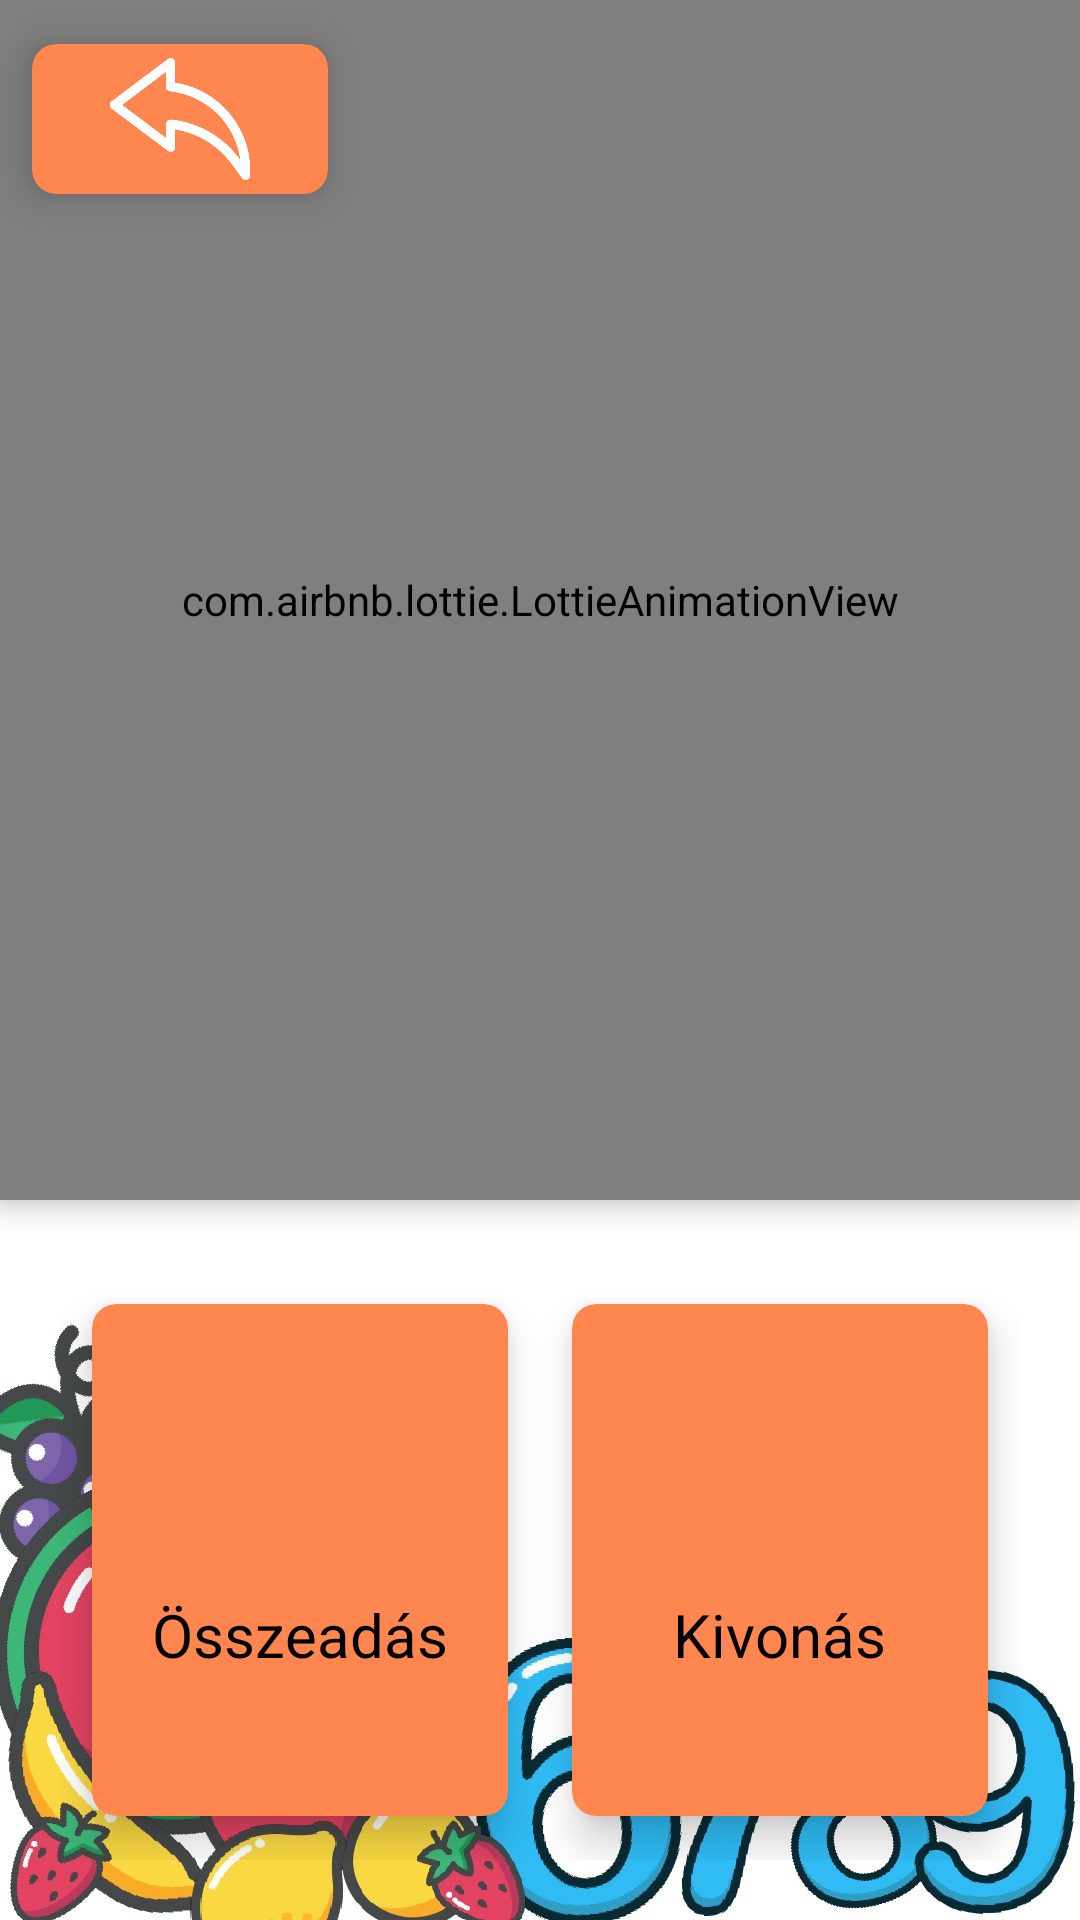

Screen size 1080*1920. Icon name, then its box in pixels as bbox(x1, y1, x2, y2):
back: bbox(110, 58, 250, 180)
